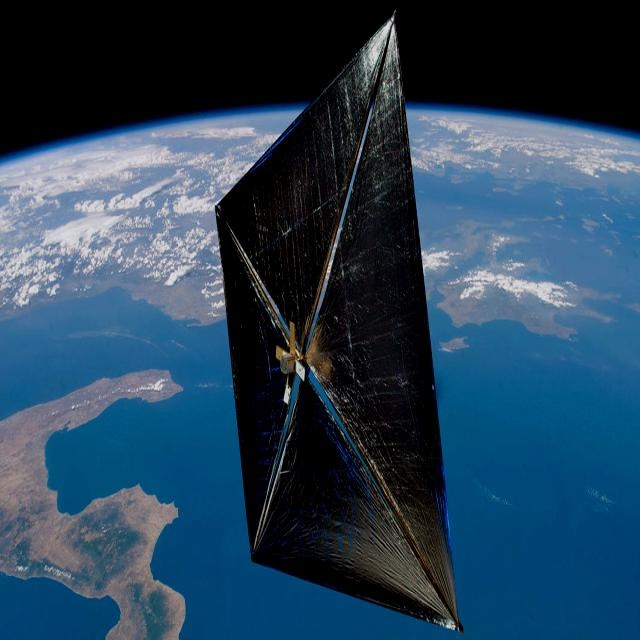satellite: (209, 0, 481, 640)
